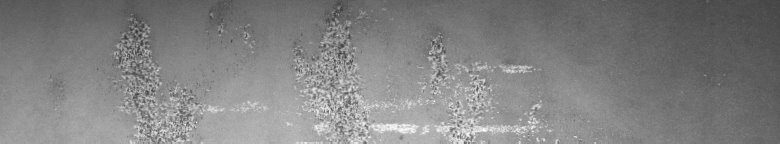hc: (292, 6, 368, 136)
